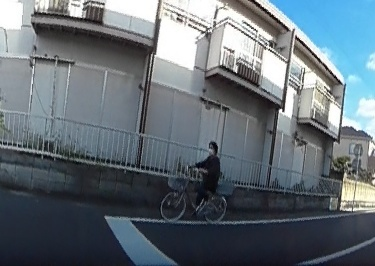person: (186, 140, 220, 207)
